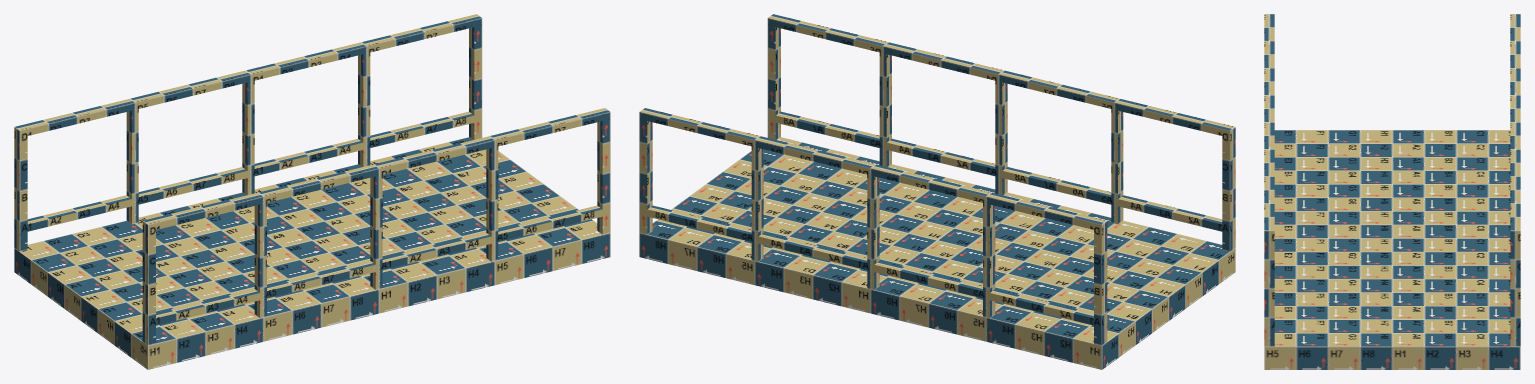
File: BRIDGE_Catwalk.fbx
3 views of the same model, side by side, from view 1: azimuth 30°, elevation 25°; view 2: azimuth 150°, elevation 25°; view 3: azimuth 270°, elevation 25° (orthographic). The views are drawn at different scales.
Parts seen in each view (by area): view 1: BRIDGE_Catwalk; view 2: BRIDGE_Catwalk; view 3: BRIDGE_Catwalk.
Boxes of the visible parts, x1,y1,x2,y2 form: BRIDGE_Catwalk: (14,14,610,369); BRIDGE_Catwalk: (639,14,1235,369); BRIDGE_Catwalk: (1264,14,1520,369).
Bounding box in the file's own units: 400 × 120 × 200.
Materials: 2 (2 with a texture image).
